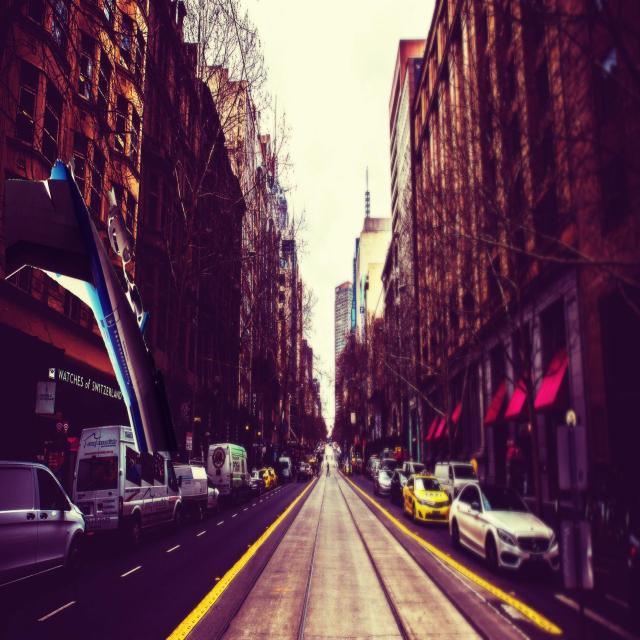airplane: (7, 159, 175, 451)
